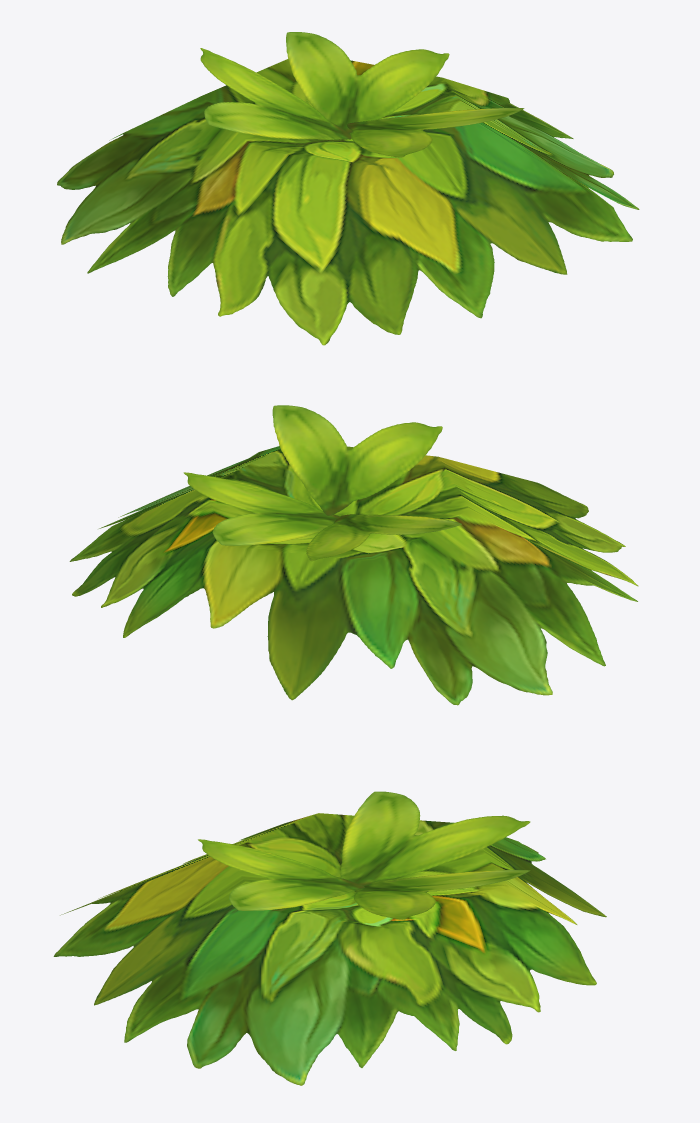
The model's file is grass02.FBX.
3 renders of one model, top to bottom at view 1: azimuth 30°, elevation 25°; view 2: azimuth 150°, elevation 25°; view 3: azimuth 270°, elevation 25°, orthographic. The views are drawn at different scales.
Parts seen in each view (by area): view 1: grass02; view 2: grass02; view 3: grass02.
Boxes of the visible parts, <box> form: grass02: <box>57,32,639,345</box>; grass02: <box>69,405,638,705</box>; grass02: <box>53,791,606,1085</box>.
Bounding box in the file's own units: 44.65 × 9.62 × 45.65.
